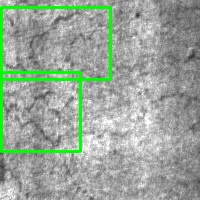crazing: (1, 7, 110, 79), (1, 72, 80, 151)
